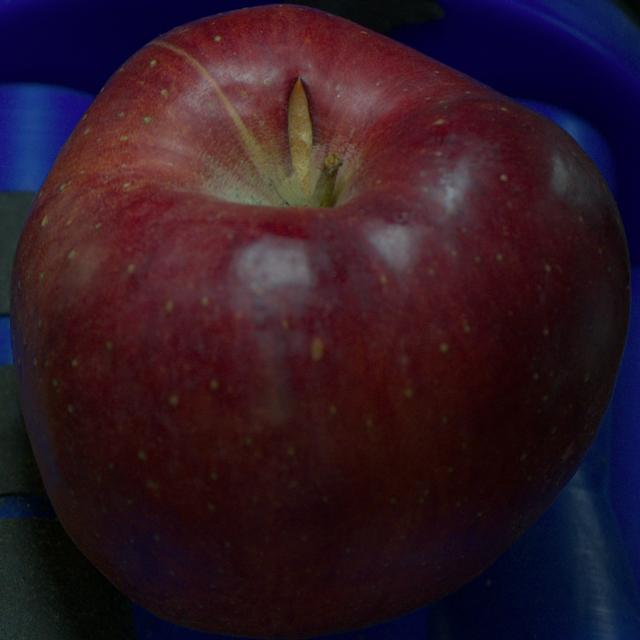apple: (11, 6, 630, 637)
scratch: (288, 77, 312, 200)
